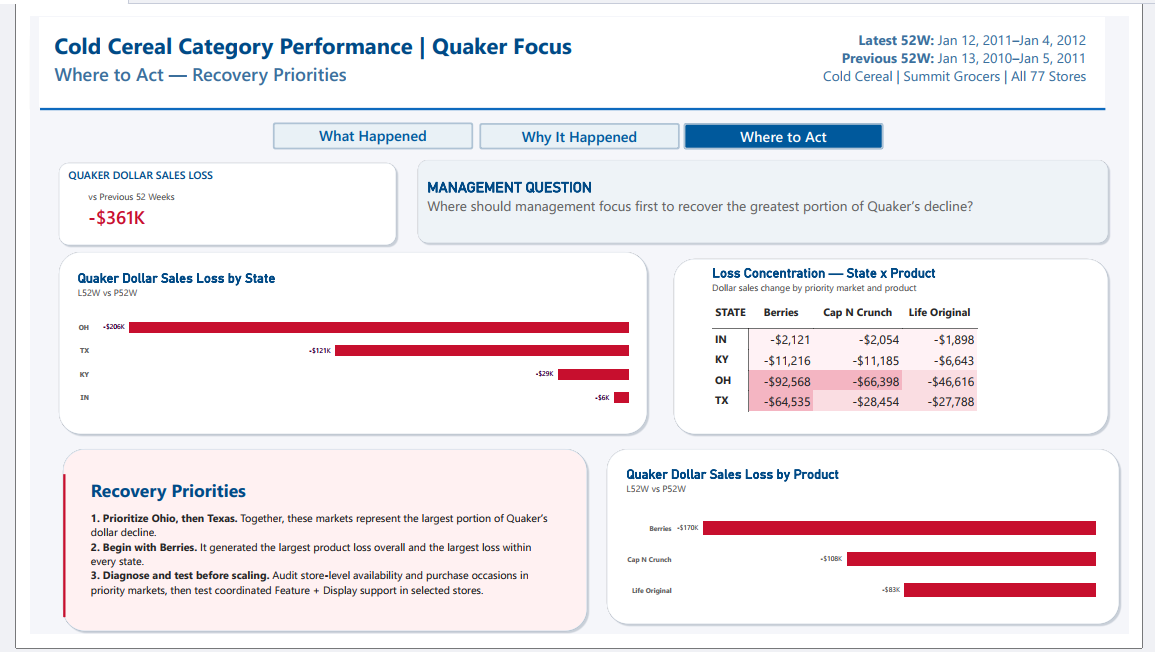

Layout of this report page (visuals, bound fields, positions):
{"tool":"powerbi","page":{"name":"Where to Act","canvas":[1920,1080],"ordinal":2},"visuals":[{"type":"shape","box":[16.7,0,1863.3,156.7],"z":0},{"type":"actionButton","box":[786.3,185.8,349.3,46.2],"z":0},{"type":"shape","box":[45,250,600,155],"z":0,"group":"g1"},{"type":"actionButton","box":[1143,185.8,349.3,46.2],"z":1000},{"type":"textbox","box":[67.5,262.5,327.5,37.5],"z":1000,"group":"g1"},{"type":"shape","box":[1003.3,750,906.7,316.7],"z":1000},{"type":"actionButton","box":[425,185,350,46.7],"z":2000},{"type":"cardVisual","fields":{"Data":["_Measures.Dollar Sales Change $"]},"box":[87,292,284,92],"z":2000,"group":"g1"},{"type":"shape","box":[45,405,1040,330],"z":2000},{"type":"shape","box":[1120,417.5,770,318],"z":3000},{"type":"shape","box":[53.3,750,926.7,330],"z":4000},{"type":"textbox","title":"Recovery Priorities","box":[86.7,786.7,847.1,264.3],"z":5000},{"type":"textbox","title":"Cold Cereal Category Performance | Quaker Focus","box":[43.3,23.3,936.7,133.3],"z":6000},{"type":"textbox","box":[1070,23.3,776.7,133.3],"z":7000},{"type":"shape","box":[17.5,132.5,1862.5,57.5],"z":8000},{"type":"shape","box":[46.7,800,27.1,250],"z":9000},{"type":"group","id":"g1","title":"Group 1","box":[45,250,600,155],"z":10000},{"type":"clusteredBarChart","title":"Quaker Dollar Sales Loss by Product","fields":{"Category":["dh Products Lookup.Product Display"],"Y":["_Measures.Dollar Sales Change $"]},"box":[1026.7,773.3,852.5,282.5],"z":11000},{"type":"shape","box":[672.5,245,1218,156],"z":12000},{"type":"textbox","title":"MANAGEMENT QUESTION ","box":[695,282.5,1016,106],"z":13000},{"type":"clusteredBarChart","title":"Quaker Dollar Sales Loss by State","fields":{"Category":["dh Store Lookup.ADDRESS_STATE_PROV_CODE"],"Y":["_Measures.Dollar Sales Change $"]},"box":[67.5,430,995.9,280],"z":14000},{"type":"pivotTable","title":"Loss Concentration — State x Product","fields":{"Columns":["dh Products Lookup.Product Display"],"Rows":["dh Store Lookup.ADDRESS_STATE_PROV_CODE"],"Values":["_Measures.Dollar Sales Change $"]},"box":[1172.5,417.5,585,305],"z":15000}]}

Visuals, with their boxes in screenshot pixels (x1, y1, x2, y2), scaled from the page's 1920x1080 canvas onto the 1155x652 screenshot:
shape: [left=10, top=0, right=1131, bottom=95]
actionButton: [left=473, top=112, right=683, bottom=140]
shape: [left=27, top=151, right=388, bottom=245]
actionButton: [left=688, top=112, right=898, bottom=140]
textbox: [left=41, top=158, right=238, bottom=181]
shape: [left=604, top=453, right=1149, bottom=644]
actionButton: [left=256, top=112, right=466, bottom=140]
cardVisual - _Measures.Dollar Sales Change $: [left=52, top=176, right=223, bottom=232]
shape: [left=27, top=245, right=653, bottom=444]
shape: [left=674, top=252, right=1137, bottom=444]
shape: [left=32, top=453, right=590, bottom=651]
"Recovery Priorities" textbox: [left=52, top=475, right=562, bottom=634]
"Cold Cereal Category Performance | Quaker Focus" textbox: [left=26, top=14, right=590, bottom=95]
textbox: [left=644, top=14, right=1111, bottom=95]
shape: [left=11, top=80, right=1131, bottom=115]
shape: [left=28, top=483, right=44, bottom=634]
"Group 1" group: [left=27, top=151, right=388, bottom=245]
"Quaker Dollar Sales Loss by Product" clusteredBarChart: [left=618, top=467, right=1130, bottom=637]
shape: [left=405, top=148, right=1137, bottom=242]
"MANAGEMENT QUESTION " textbox: [left=418, top=171, right=1029, bottom=235]
"Quaker Dollar Sales Loss by State" clusteredBarChart: [left=41, top=260, right=640, bottom=429]
"Loss Concentration — State x Product" pivotTable: [left=705, top=252, right=1057, bottom=436]
